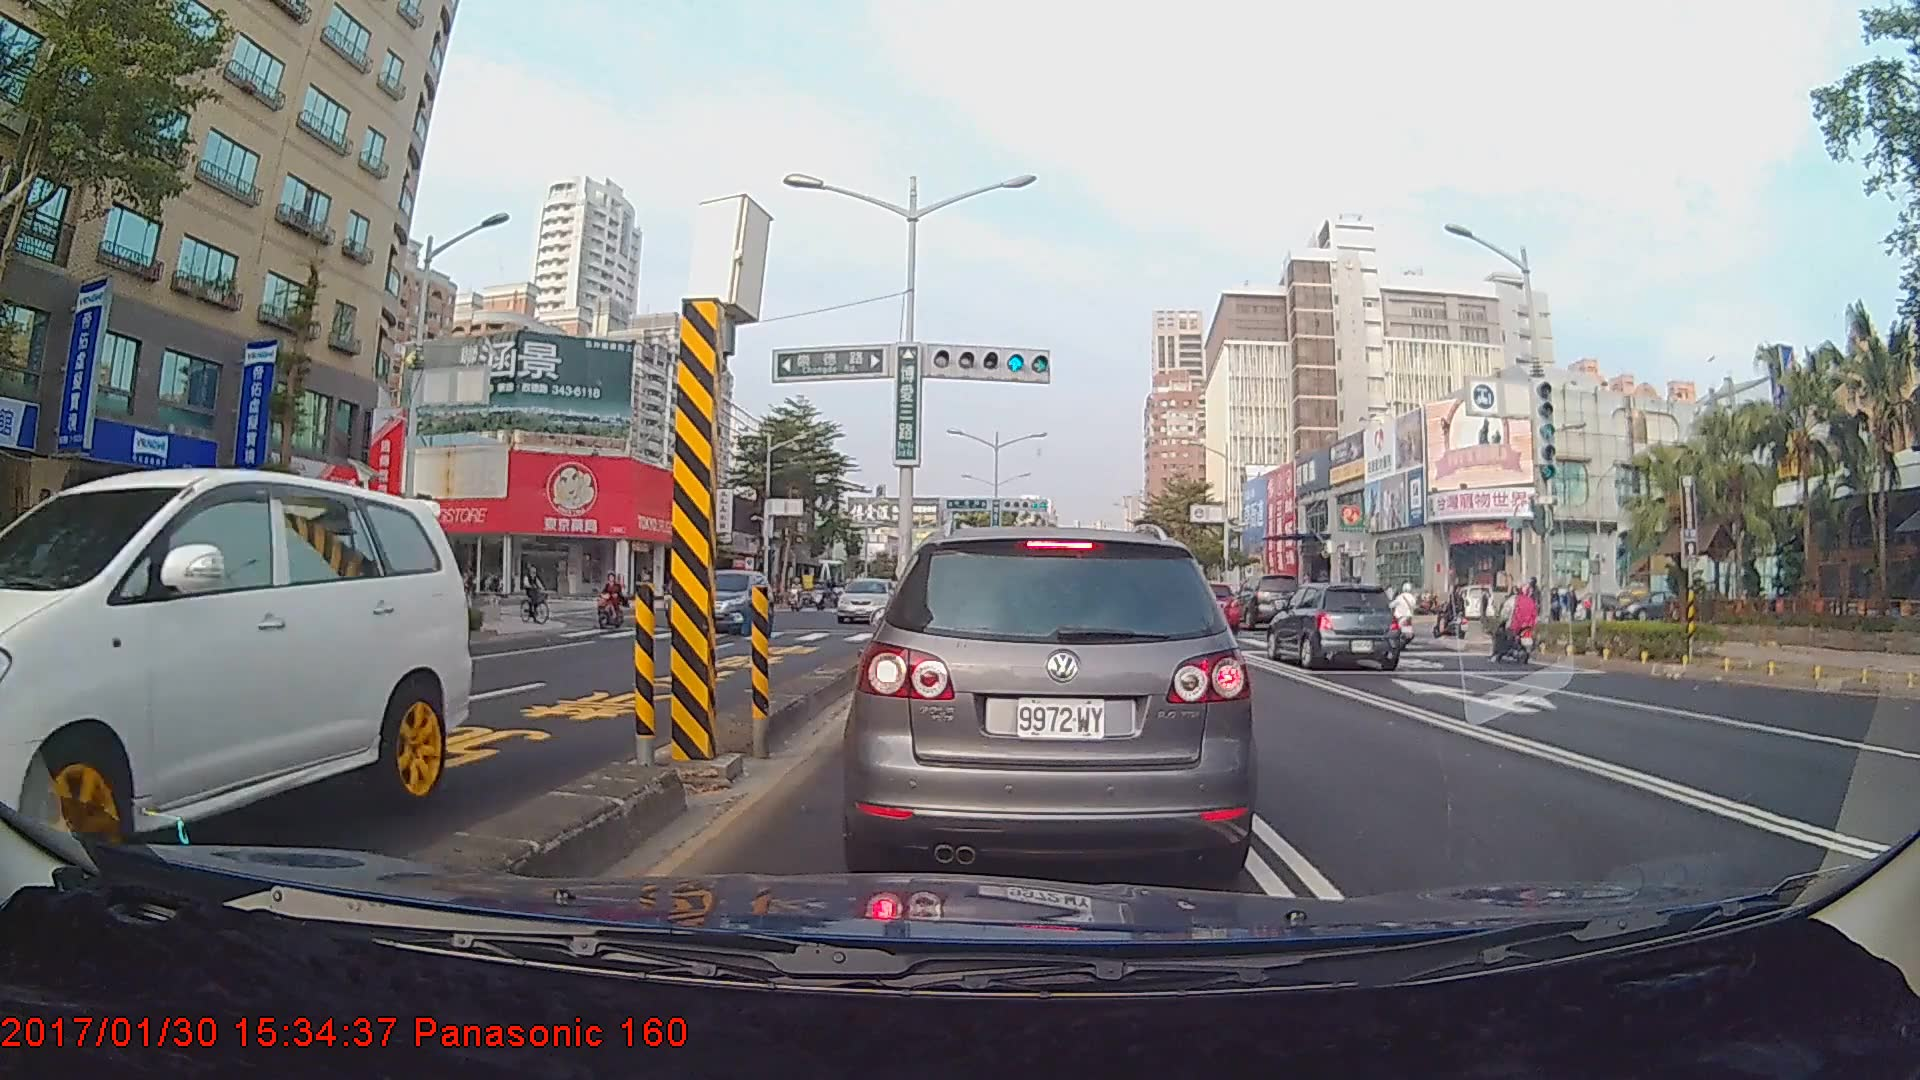rider: (1485, 582, 1548, 668), (518, 559, 561, 629), (592, 567, 630, 636), (1436, 582, 1473, 646)
vehicle: (0, 466, 469, 849), (857, 523, 1242, 880), (1263, 582, 1401, 669), (674, 568, 772, 634), (1230, 570, 1300, 629), (1173, 581, 1241, 636), (834, 576, 896, 622)
